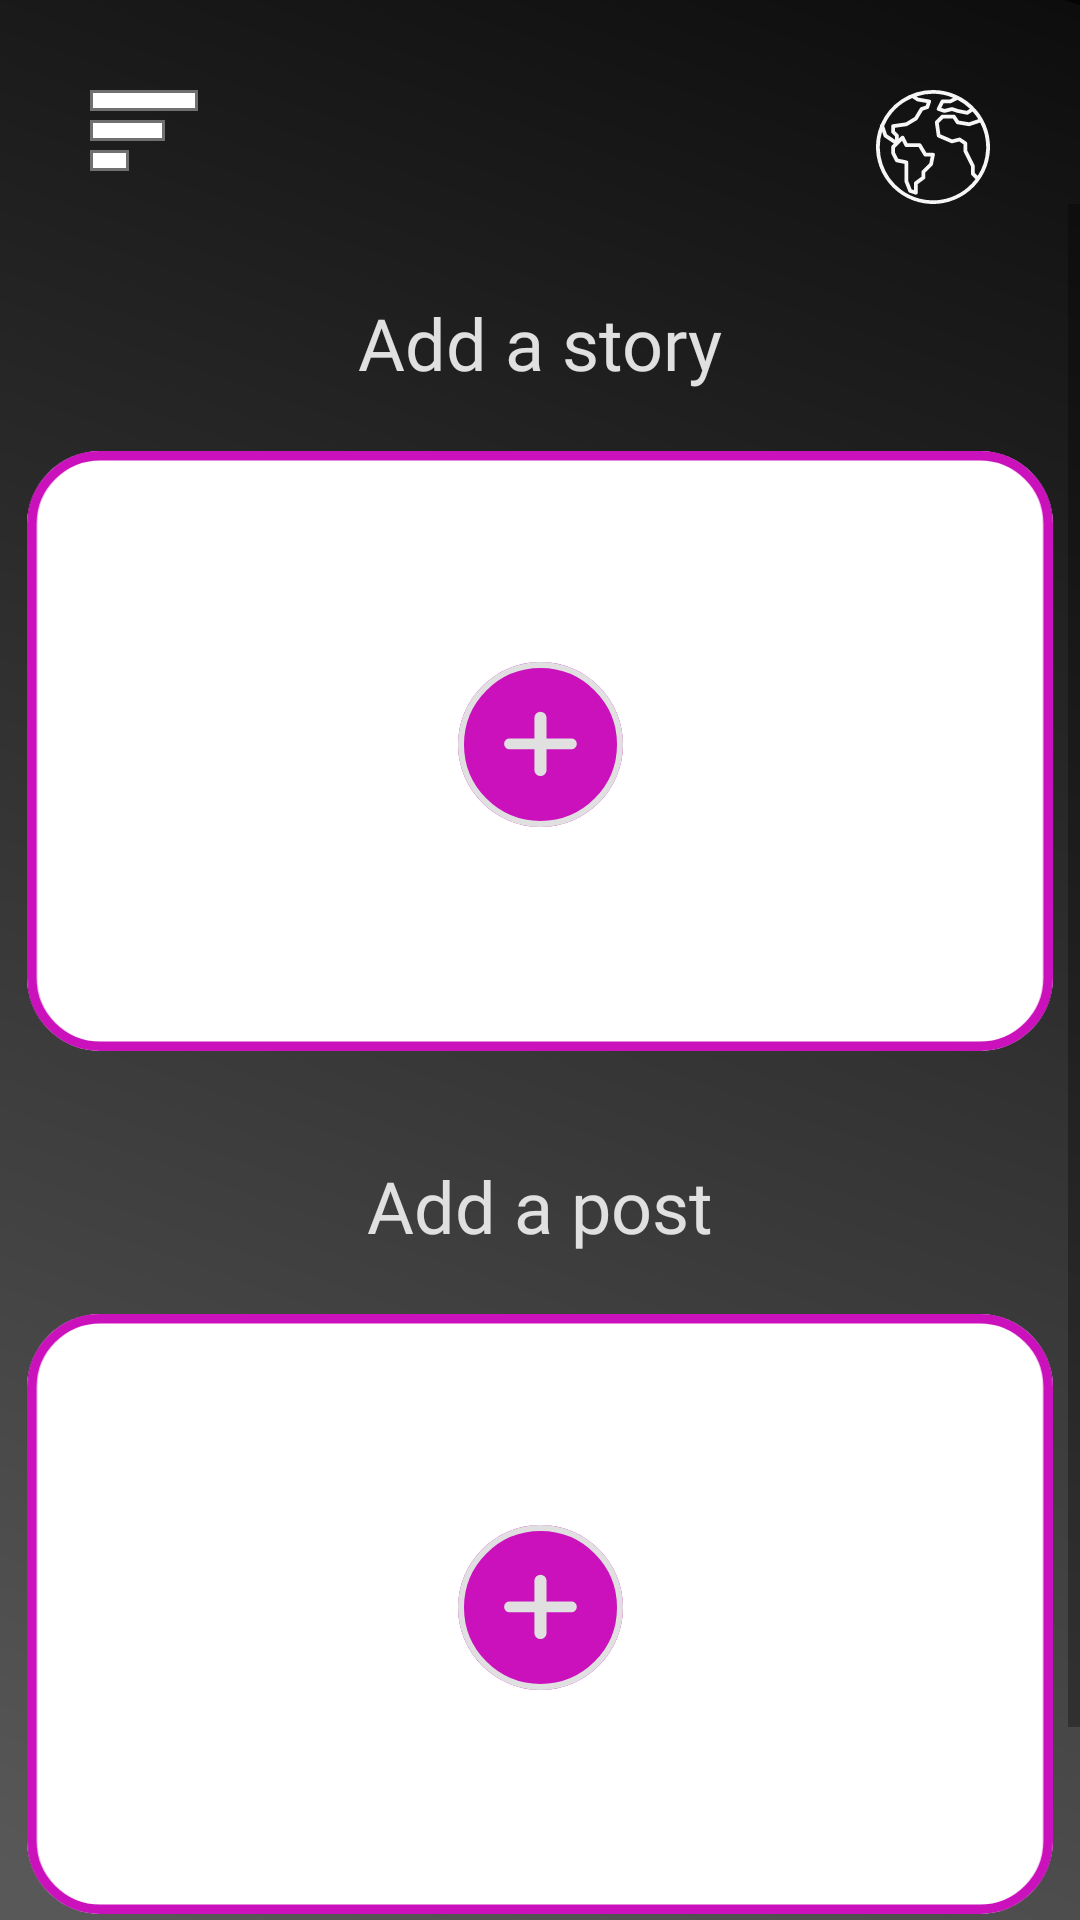

Screen size 1080px×1920px. Icon name, then its box in pixels as (x1, y1, x2, y2):
addbutton: (458, 662, 623, 827), (458, 1525, 623, 1690)
menubar: (90, 90, 198, 171)
worldwide: (876, 90, 990, 204)
